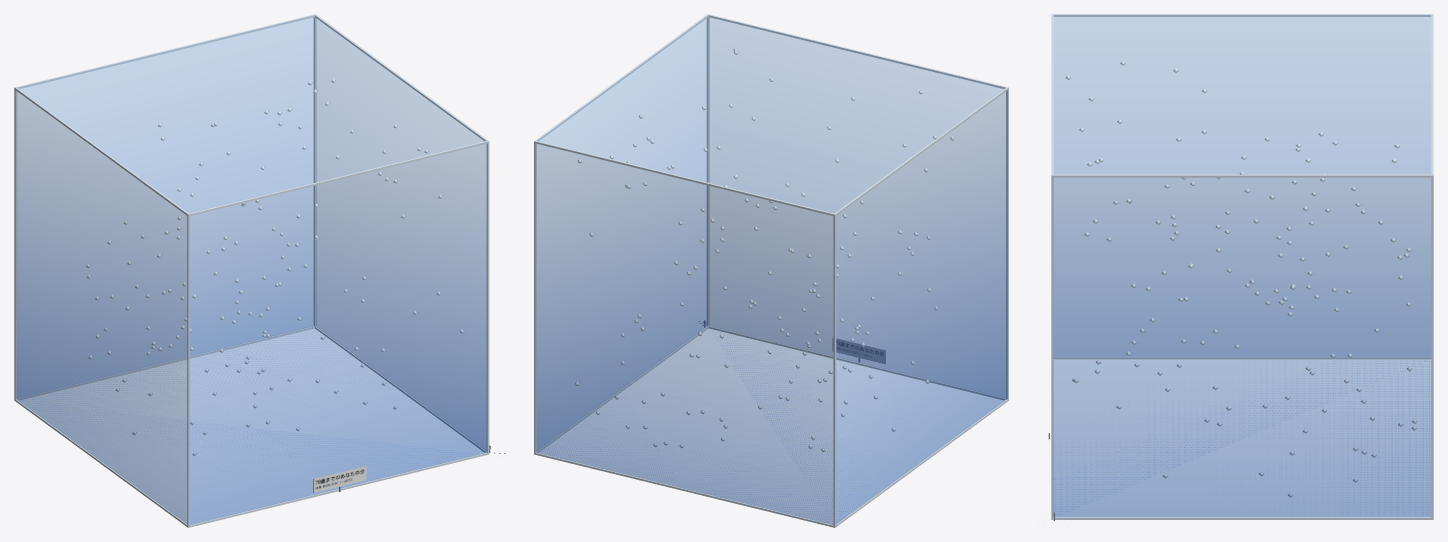
Rendered from cube_life_79.glb.
The picture shows the model from 3 angles, left to right: view 1: azimuth 30°, elevation 25°; view 2: azimuth 150°, elevation 25°; view 3: azimuth 270°, elevation 25°; orthographic projection. The views are drawn at different scales.
Parts seen in each view (by area): view 1: co2, edge, dots, label; view 2: co2, edge, dots, label; view 3: co2, edge, dots.
Boxes of the visible parts, x1,y1,x2,y2 form: co2: (16, 15, 486, 524); edge: (14, 14, 489, 527); dots: (86, 78, 463, 456); label: (313, 466, 366, 492); co2: (536, 15, 1006, 524); edge: (534, 14, 1008, 527); dots: (575, 47, 954, 452); label: (836, 339, 885, 363); co2: (1053, 15, 1431, 516); edge: (1051, 14, 1433, 519); dots: (1065, 61, 1417, 497).
Bounding box in the file's own units: 70.78 × 67.01 × 69.88.
Materials: 8 (3 with a texture image).
